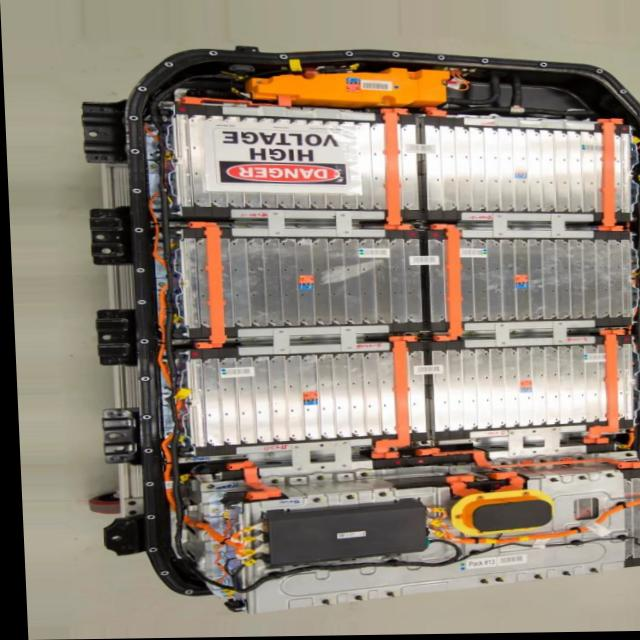Aluminum-frame: (232, 209, 387, 239), (460, 211, 594, 243), (234, 327, 387, 355), (243, 440, 374, 471), (465, 324, 591, 351), (469, 431, 582, 458)
Battery Module: (174, 117, 382, 211), (224, 240, 417, 321), (191, 358, 384, 439), (430, 130, 599, 212), (459, 242, 629, 319), (425, 352, 599, 427)
Bolt: (311, 475, 324, 485), (338, 494, 356, 501), (505, 330, 520, 338), (305, 498, 320, 506), (295, 336, 311, 343), (247, 339, 264, 345), (544, 478, 557, 485), (372, 492, 385, 499), (266, 479, 279, 486), (354, 474, 367, 481), (241, 222, 256, 228), (292, 224, 306, 229), (506, 225, 517, 231)
Bus-bar: (373, 336, 415, 460), (411, 449, 640, 471), (189, 222, 225, 350), (586, 332, 621, 446), (379, 108, 410, 232), (432, 224, 461, 343), (597, 121, 623, 232), (178, 92, 309, 112), (222, 461, 277, 502), (439, 477, 478, 497), (489, 473, 521, 494)
Cable: (149, 188, 248, 599), (415, 493, 640, 548)
Nut: (376, 591, 392, 600), (490, 574, 502, 586), (310, 599, 327, 607), (347, 594, 360, 604), (472, 580, 486, 588), (580, 568, 593, 576), (554, 572, 570, 578), (528, 575, 539, 583), (600, 474, 612, 481), (571, 476, 582, 482)
